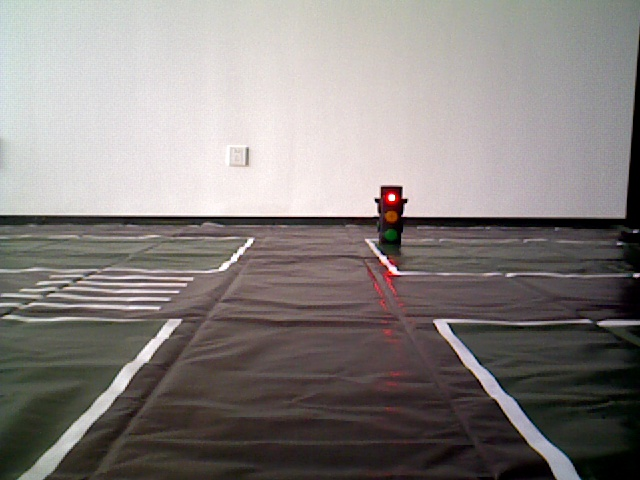red: (377, 187, 401, 249)
